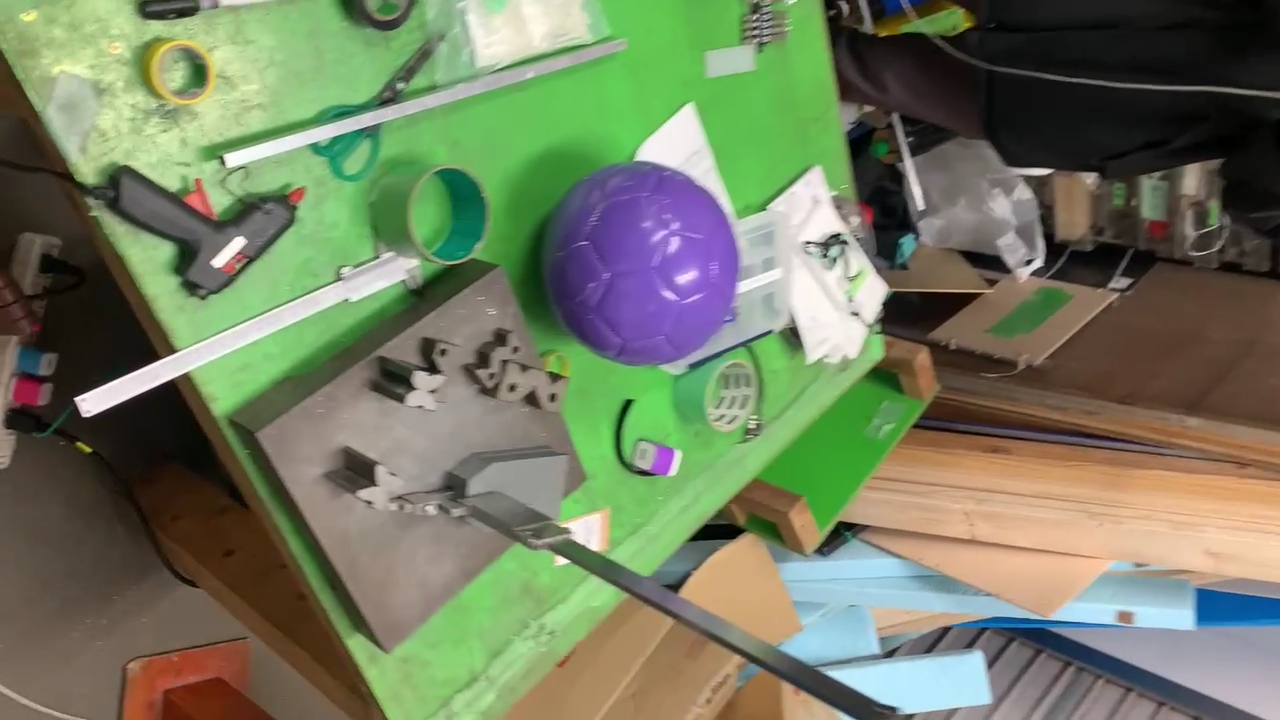purple: (543, 163, 739, 368)
